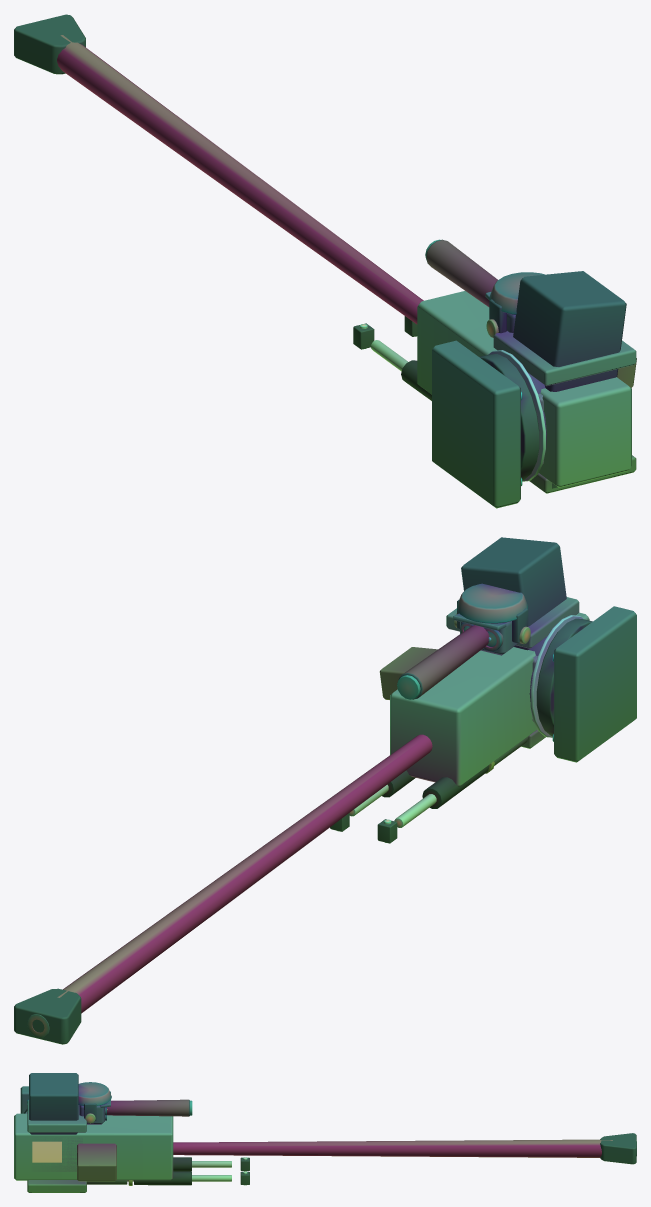
File: arm_amr.glb
The picture shows the model from 3 angles, top to bottom: view 1: azimuth 30°, elevation 25°; view 2: azimuth 150°, elevation 25°; view 3: azimuth 270°, elevation 25°; orthographic projection. The views are drawn at different scales.
Visible parts, largest first — view 1: Body__gunmetal, Body__dark, Body__armor, Body__armor_sub, Body__chrome; view 2: Body__gunmetal, Body__dark, Body__armor, Body__chrome, Body__armor_sub, Body__rubber, Body__armor_oxide; view 3: Body__gunmetal, Body__armor, Body__dark, Body__armor_sub, Body__armor_oxide, Body__rubber, Body__decal, Body__chrome, Body__armor_dark.
Boxes of the visible parts, x1,y1,x2,y2 form: Body__gunmetal: (57,35,546,508); Body__dark: (14,14,626,488); Body__armor: (417,291,631,487); Body__armor_sub: (493,331,636,493); Body__chrome: (359,324,546,485); Body__gunmetal: (27,583,636,1037); Body__dark: (14,537,592,1044); Body__armor: (390,612,589,786); Body__chrome: (338,615,583,842); Body__armor_sub: (446,597,579,748); Body__rubber: (382,765,489,808); Body__armor_oxide: (379,647,437,699); Body__gunmetal: (20,1082,636,1184); Body__armor: (14,1113,173,1180); Body__dark: (24,1073,636,1184); Body__armor_sub: (27,1100,86,1192); Body__armor_oxide: (77,1143,116,1181); Body__rubber: (134,1157,191,1185); Body__decal: (32,1141,61,1162); Body__chrome: (25,1099,247,1185); Body__armor_dark: (79,1105,104,1124).
Bounding box in the file's own units: 0.7556 × 0.7125 × 3.75.
